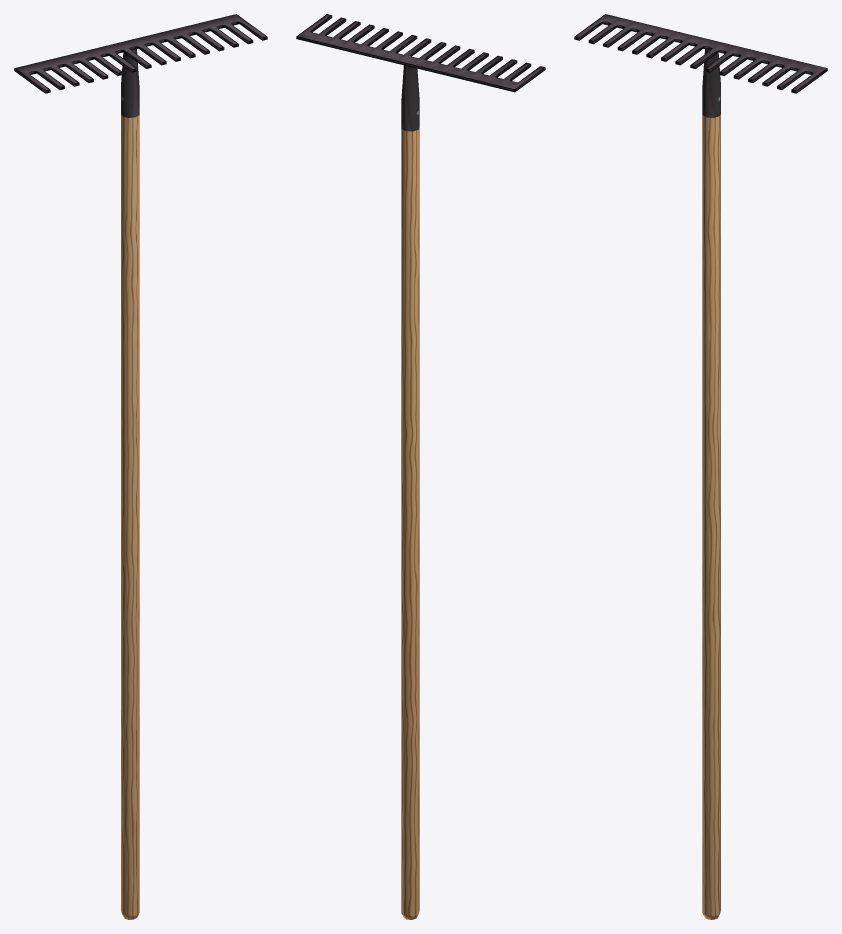
File: Rake.fbx
The picture shows the model from 3 angles, left to right: view 1: azimuth 30°, elevation 25°; view 2: azimuth 150°, elevation 25°; view 3: azimuth 330°, elevation 25°; orthographic projection.
Parts seen in each view (by area): view 1: Rake; view 2: Rake; view 3: Rake.
Part boxes in pixels (x1=…): Rake: x1=14, y1=14, x2=267, y2=919; Rake: x1=296, y1=14, x2=545, y2=919; Rake: x1=574, y1=14, x2=827, y2=919.
Size of the model in its own units: 0.63 by 2.36 by 0.1526.
